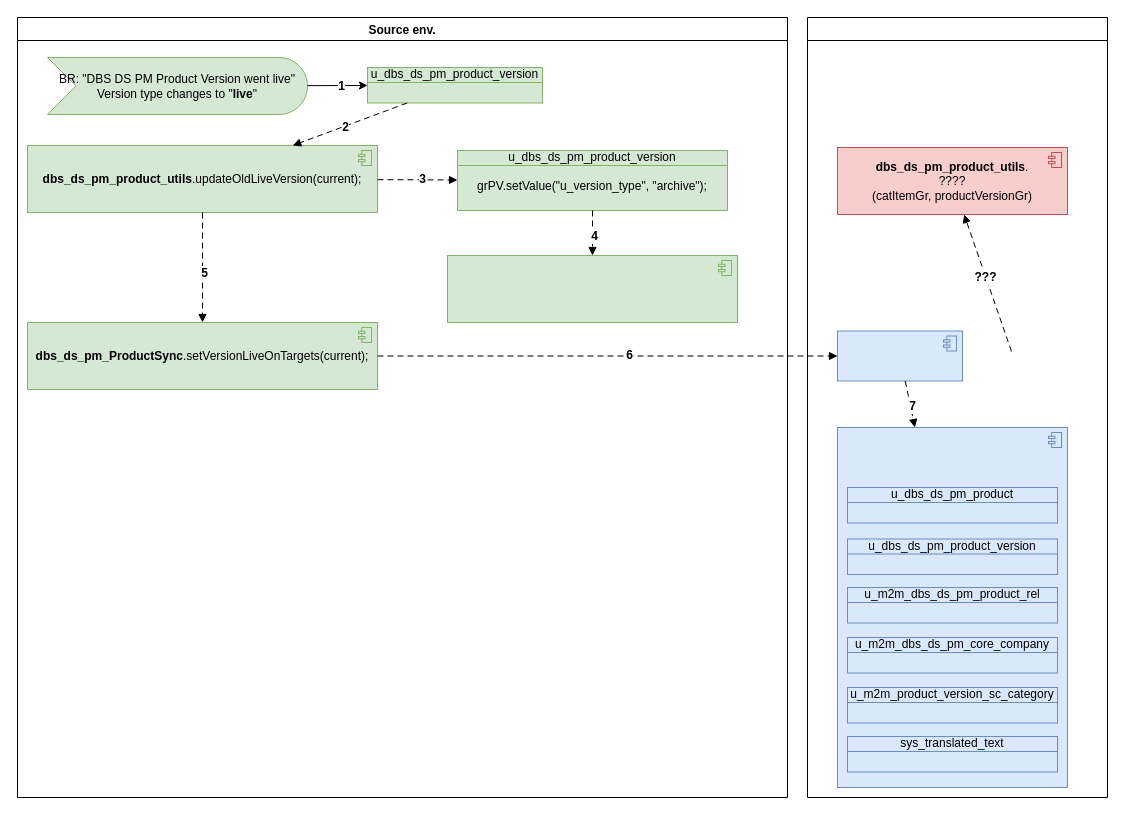
This 1125x815 diagram has some shape labels left out. The shapes that lost their labels are listed below. From the top down, each one's box as (x1, y1, x2, y2) in pixels, then its label:
(446, 254, 738, 322): dbs_ds_pm_product_utils . updateCatalogItemData(catItemGr, productVersionGr)
(836, 330, 962, 381): Scripted REST API
(806, 16, 1108, 798): Lower env.
(836, 426, 1068, 788): dbs_ds_pm_ProductSync . setVersionLiveOnTargets(current);
